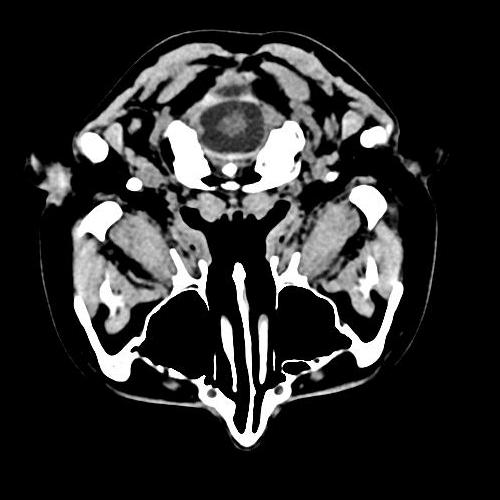Normal_Brain: (31, 31, 450, 464)
